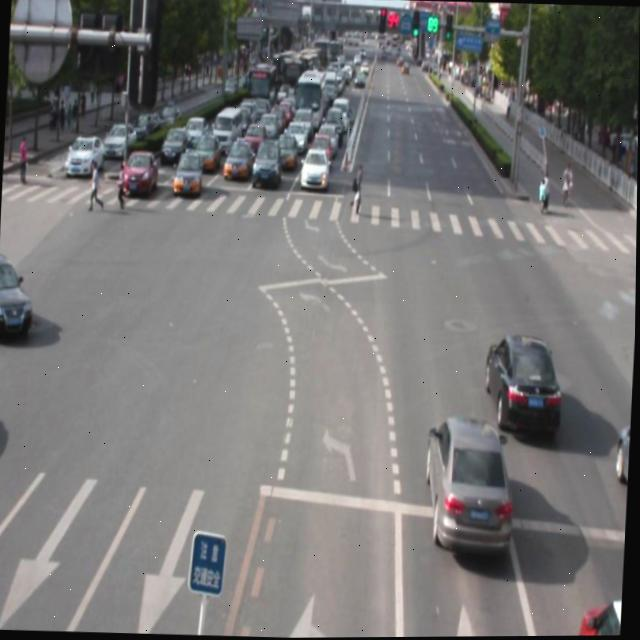car: (424, 414, 516, 553), (482, 333, 565, 433), (575, 595, 623, 637), (615, 422, 632, 501)
